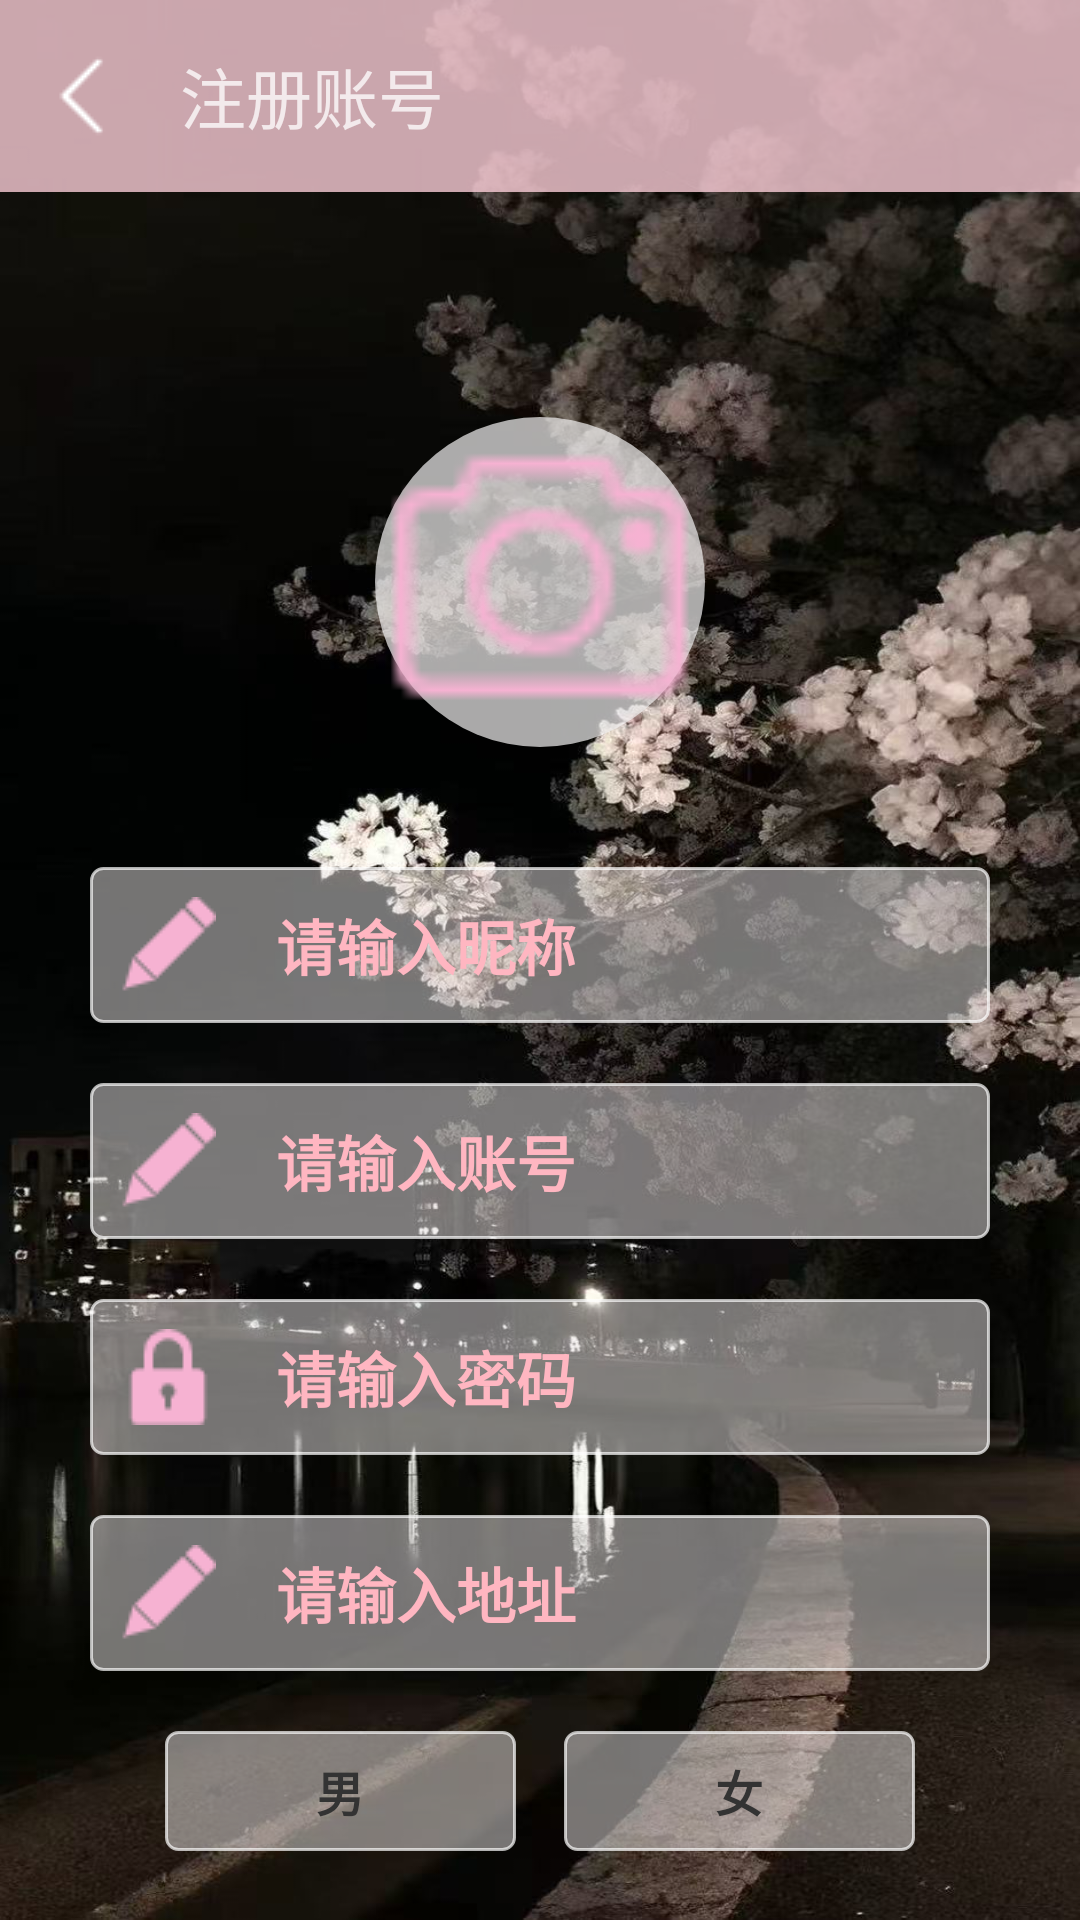

Point at icon controls on the screen. Image size 1080 × 1920, points as (x=x, y=y).
photo: (x=540, y=582)
